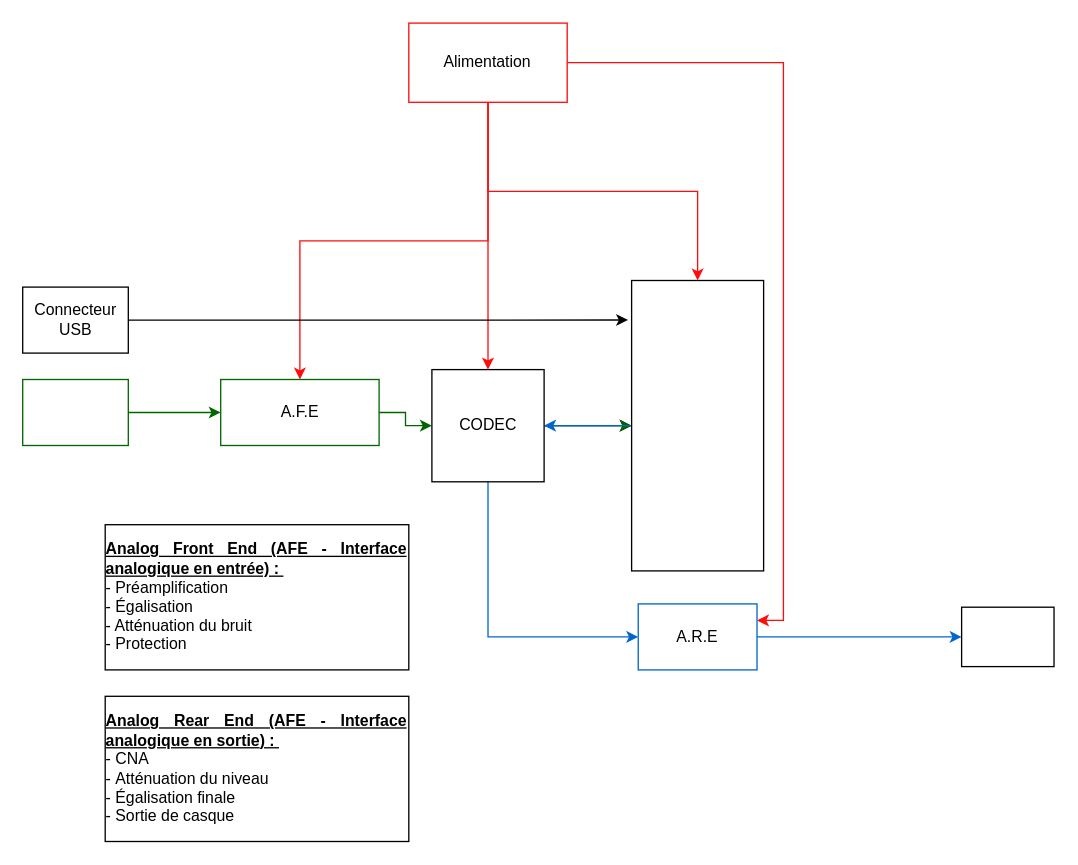
Image size: 1078x865. Some labels were removed from this diagram. The box of each missing label's shape, as (x1, y1, x2, y2) in pixels:
Ampli: (960, 606, 1054, 667)
Guitare: (21, 378, 128, 446)
PROCESSEUR: (630, 279, 764, 571)
